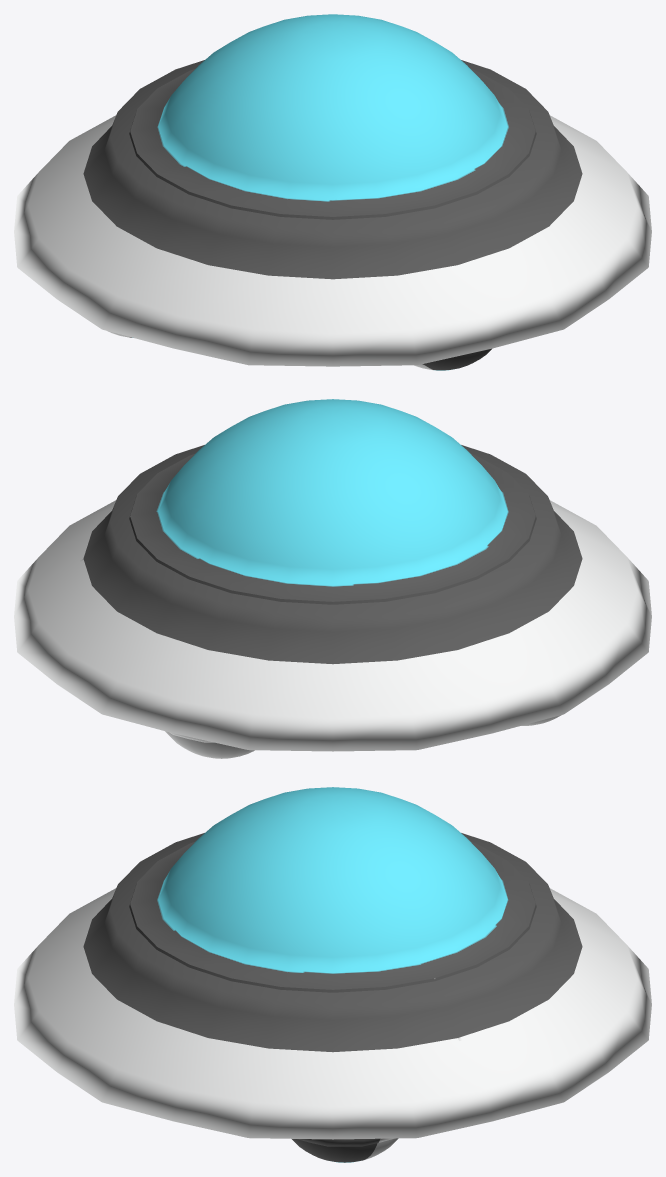
File: UFO.fbx
The picture shows the model from 3 angles, top to bottom: view 1: azimuth 30°, elevation 25°; view 2: azimuth 150°, elevation 25°; view 3: azimuth 270°, elevation 25°; orthographic projection.
Visible parts, largest first — view 1: pCylinder7, pSphere7; view 2: pCylinder7, pSphere6; view 3: pCylinder7, pSphere8.
Part boxes in pixels (x1,y1,x2,y2): pCylinder7: (14, 14, 651, 366); pSphere7: (414, 348, 491, 370); pCylinder7: (14, 399, 651, 751); pSphere6: (165, 731, 254, 758); pCylinder7: (14, 787, 651, 1139); pSphere8: (292, 1138, 398, 1162).
Bounding box in the file's own units: 12.34 × 5.41 × 12.34.
